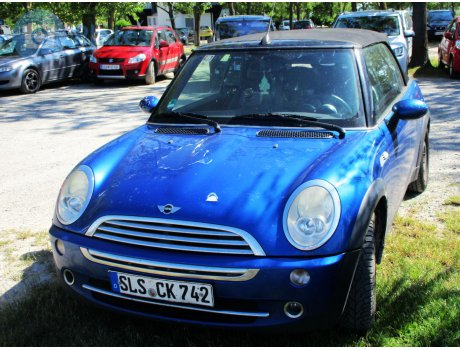License Plates: (113, 272, 210, 301)
